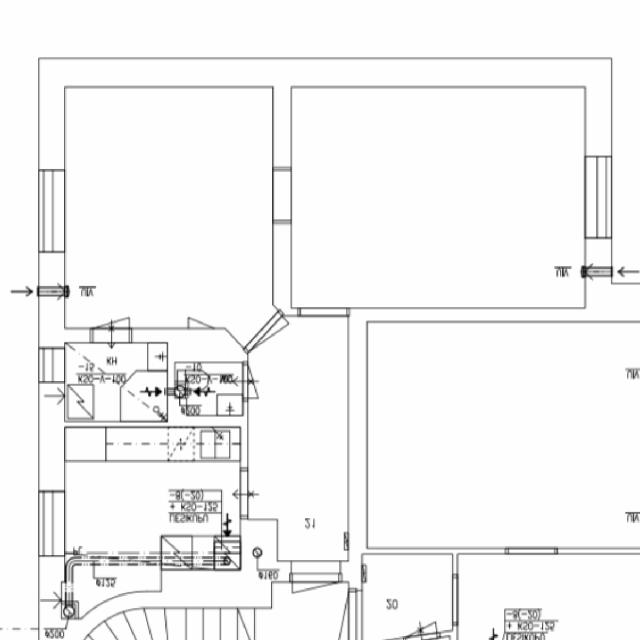door: (247, 318, 303, 380), (292, 574, 338, 632), (92, 286, 130, 343), (243, 365, 279, 398)
